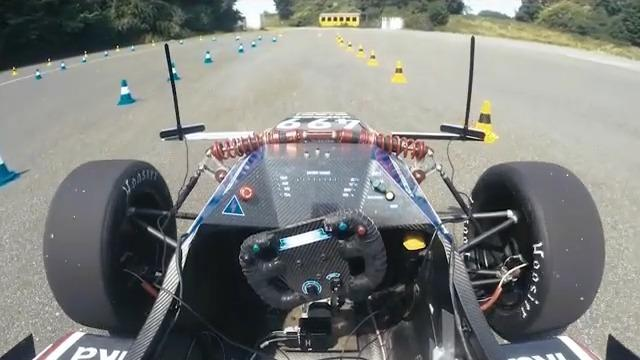blue_cone: (0, 132, 22, 189), (115, 78, 135, 107), (168, 62, 181, 81), (203, 50, 213, 64)
yellow_cone: (467, 97, 498, 144), (389, 60, 407, 85), (367, 50, 379, 67), (356, 43, 365, 57)
